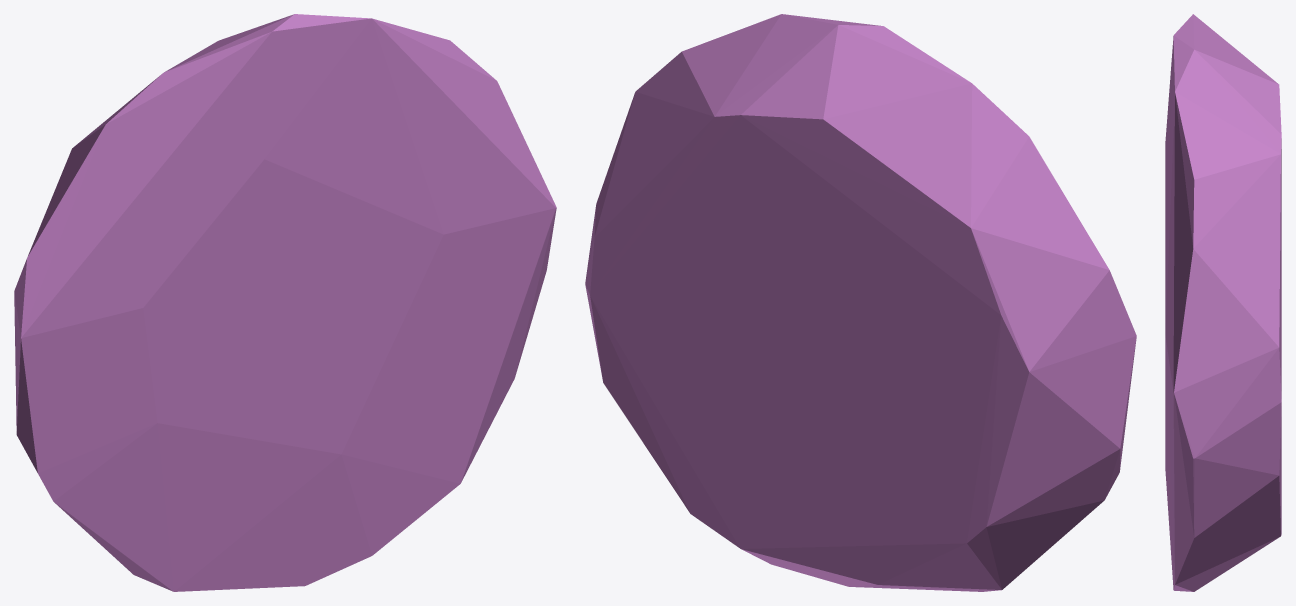
File: consumable_bearing_ball_a01.glb
3 views of the same model, side by side, from view 1: azimuth 30°, elevation 25°; view 2: azimuth 150°, elevation 25°; view 3: azimuth 270°, elevation 25° (orthographic). The views are drawn at different scales.
Visible parts, largest first — view 1: geometry_0; view 2: geometry_0; view 3: geometry_0.
Boxes of the visible parts, x1,y1,x2,y2 form: geometry_0: (14,14,556,591); geometry_0: (585,14,1136,591); geometry_0: (1165,14,1281,591).
Bounding box in the file's own units: 0.4759 × 0.4789 × 0.0961.
